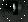person: (15, 2, 22, 16)
